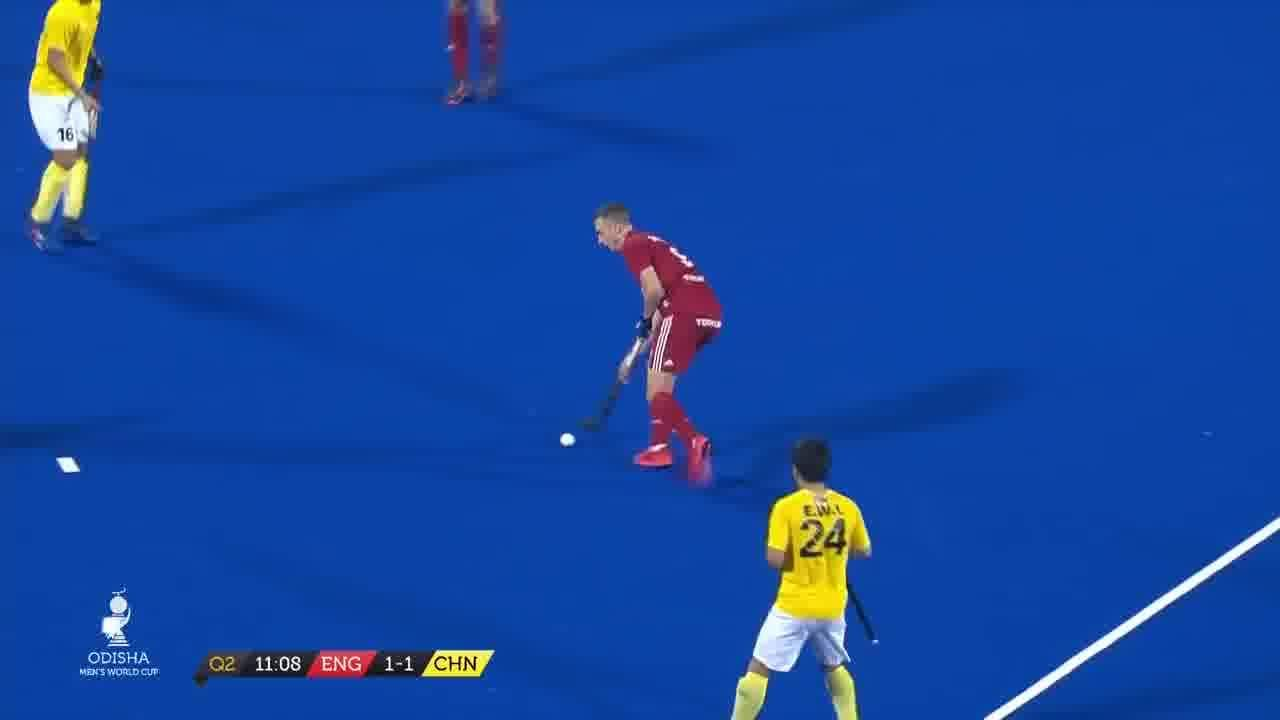ball: (554, 426, 584, 450)
